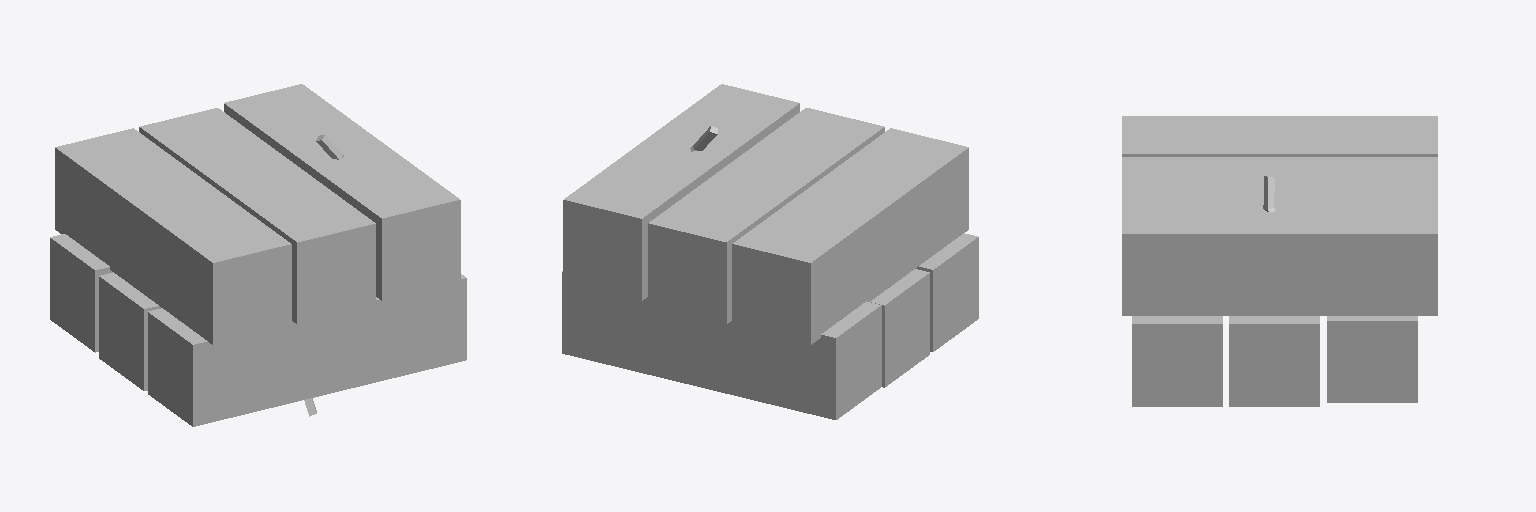
The model's file is bridge.obj.
The picture shows the model from 3 angles: view 1: azimuth 30°, elevation 25°; view 2: azimuth 150°, elevation 25°; view 3: azimuth 270°, elevation 25°; orthographic projection.
Visible parts, largest first — view 1: Cube.391_Cube.006, Cube.391_Cube.003, Cube.391_Cube.004, Cube.391_Cube.005, Cube.391_Cube.001, Cube.391_Cube.002; view 2: Cube.391_Cube.006, Cube.391_Cube.001, Cube.391_Cube.004, Cube.391_Cube.005, Cube.391_Cube.003, Cube.391_Cube.002; view 3: Cube.391_Cube.004, Cube.391_Cube.006, Cube.391_Cube.005, Cube.391_Cube.002, Cube.391_Cube.003, Cube.391_Cube.001.
Boxes of the visible parts, box(x1,y1,x2,y2) form: Cube.391_Cube.006: box(55, 128, 291, 344); Cube.391_Cube.003: box(148, 274, 466, 426); Cube.391_Cube.004: box(224, 84, 460, 300); Cube.391_Cube.005: box(139, 108, 375, 324); Cube.391_Cube.001: box(50, 234, 112, 352); Cube.391_Cube.002: box(99, 272, 160, 390); Cube.391_Cube.006: box(732, 128, 968, 344); Cube.391_Cube.001: box(562, 271, 881, 419); Cube.391_Cube.004: box(563, 84, 799, 300); Cube.391_Cube.005: box(648, 108, 884, 324); Cube.391_Cube.003: box(916, 233, 978, 351); Cube.391_Cube.002: box(870, 269, 929, 387); Cube.391_Cube.004: box(1122, 176, 1437, 315); Cube.391_Cube.006: box(1122, 116, 1437, 156); Cube.391_Cube.005: box(1122, 157, 1437, 194); Cube.391_Cube.002: box(1229, 316, 1319, 406); Cube.391_Cube.003: box(1132, 316, 1222, 406); Cube.391_Cube.001: box(1327, 316, 1417, 402).
Size of the model in its own units: 0.9881 by 0.7592 by 0.9881.